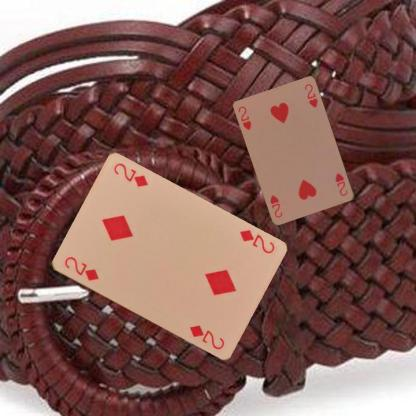2d: (61, 254, 100, 283), (236, 227, 276, 255)
2h: (236, 104, 253, 132), (333, 170, 349, 197)
